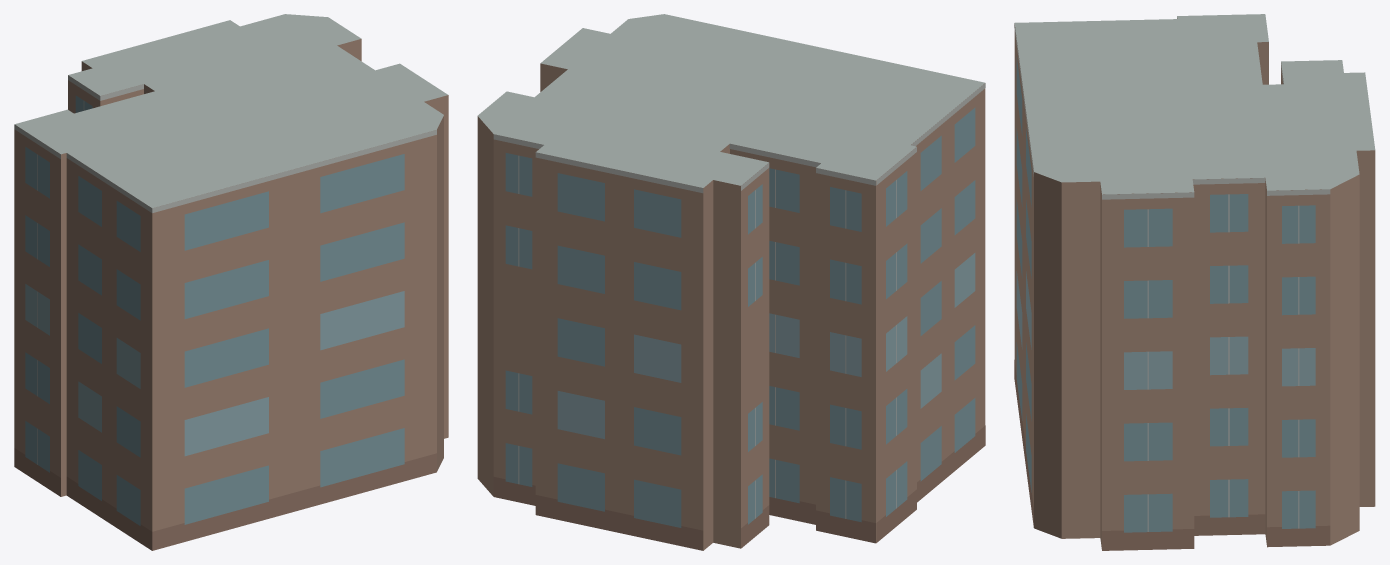
The model's file is survey-upis-32628085.glb.
3 renders of one model, left to right at view 1: azimuth 30°, elevation 25°; view 2: azimuth 150°, elevation 25°; view 3: azimuth 270°, elevation 25°, orthographic. The views are drawn at different scales.
Parts seen in each view (by area): view 1: survey-upis-32628085.tmp; view 2: survey-upis-32628085.tmp; view 3: survey-upis-32628085.tmp.
Part boxes in pixels (x1,y1,x2,y2): survey-upis-32628085.tmp: (14,14,448,550); survey-upis-32628085.tmp: (477,14,985,550); survey-upis-32628085.tmp: (1014,14,1375,550).
Size of the model in its own units: 18.14 by 16.7 by 15.33.
